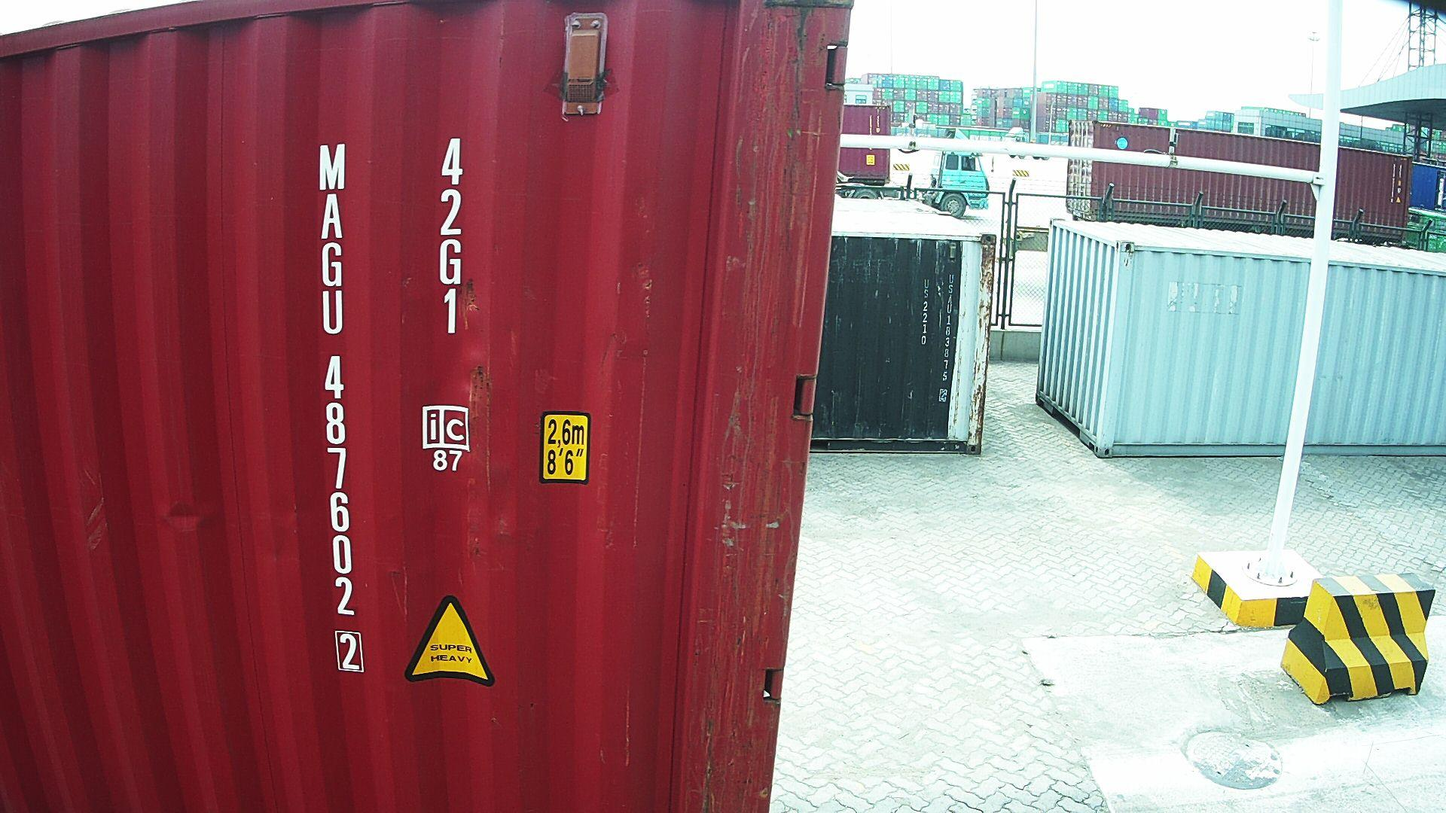container-numbers: (312, 138, 365, 677), (432, 134, 471, 340)
